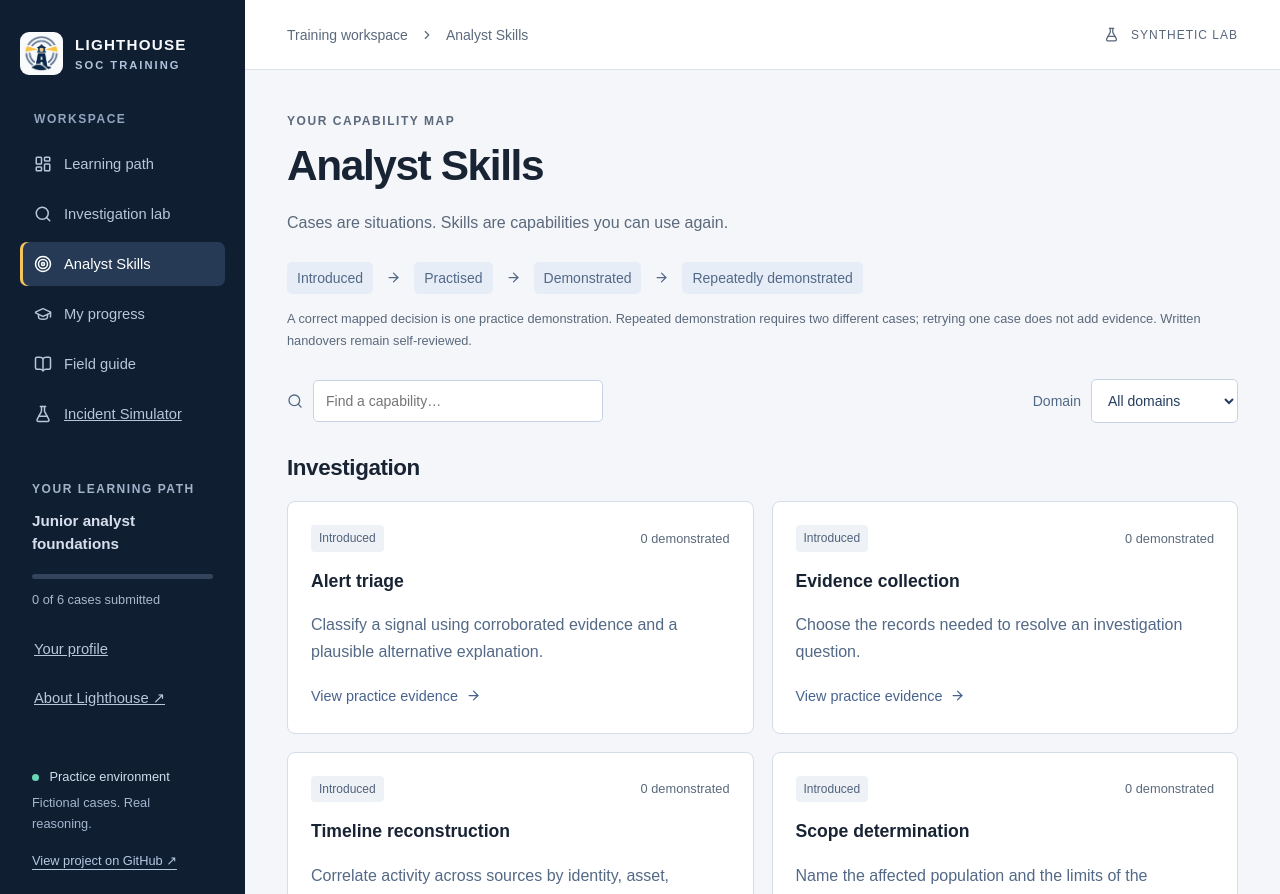
opens Analyst Skills directly and supports empty search results
Check: the heading "Analyst Skills" is shown, box top-left (287, 142), bottom-right (543, 189)
Type "no-such-skill" into the field named "Find an analyst skill" at (458,402), box top-left (313, 380), bottom-right (603, 422)
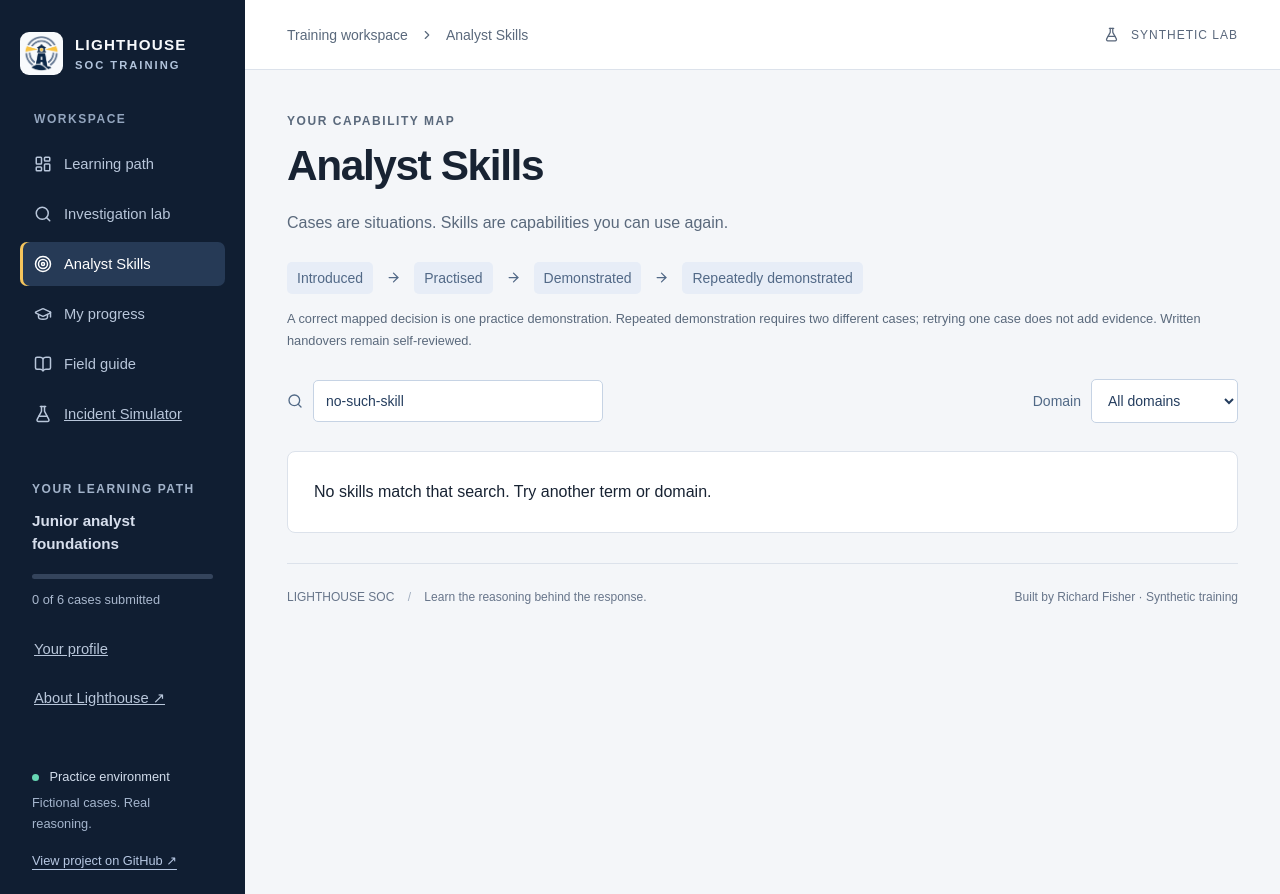
Check: the text "No skills match that search. Try another term or domain." is shown, box top-left (287, 452), bottom-right (1238, 533)
